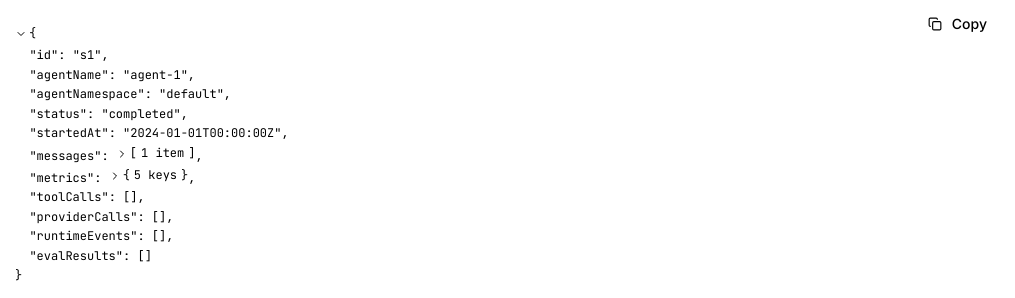
it: RawTab › shows 'Copied' after clicking copy
The width and height of the screenshot is (1015, 298).
Click the button with test id "raw-copy-button" at (957, 24), box [916, 8, 999, 40]
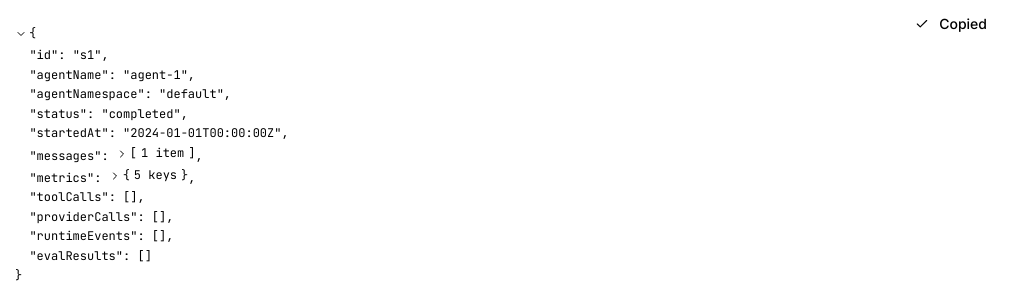
Check: the button "Copied" is shown, box [903, 8, 999, 40]
